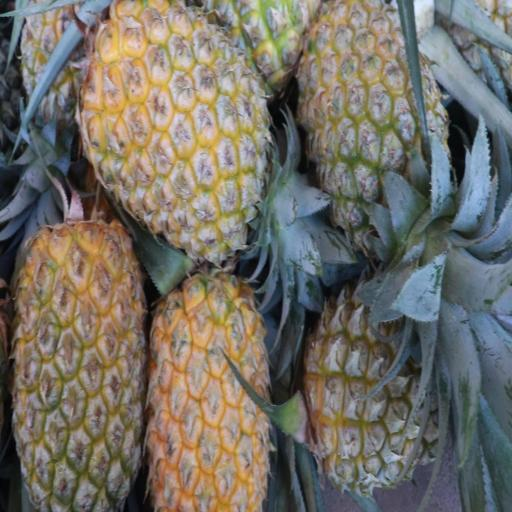------------------------------: (299, 0, 440, 238), (306, 274, 442, 484), (20, 0, 93, 110)
Pineapple - v8 v1: (84, 0, 270, 253), (14, 228, 140, 506), (152, 277, 271, 507)
